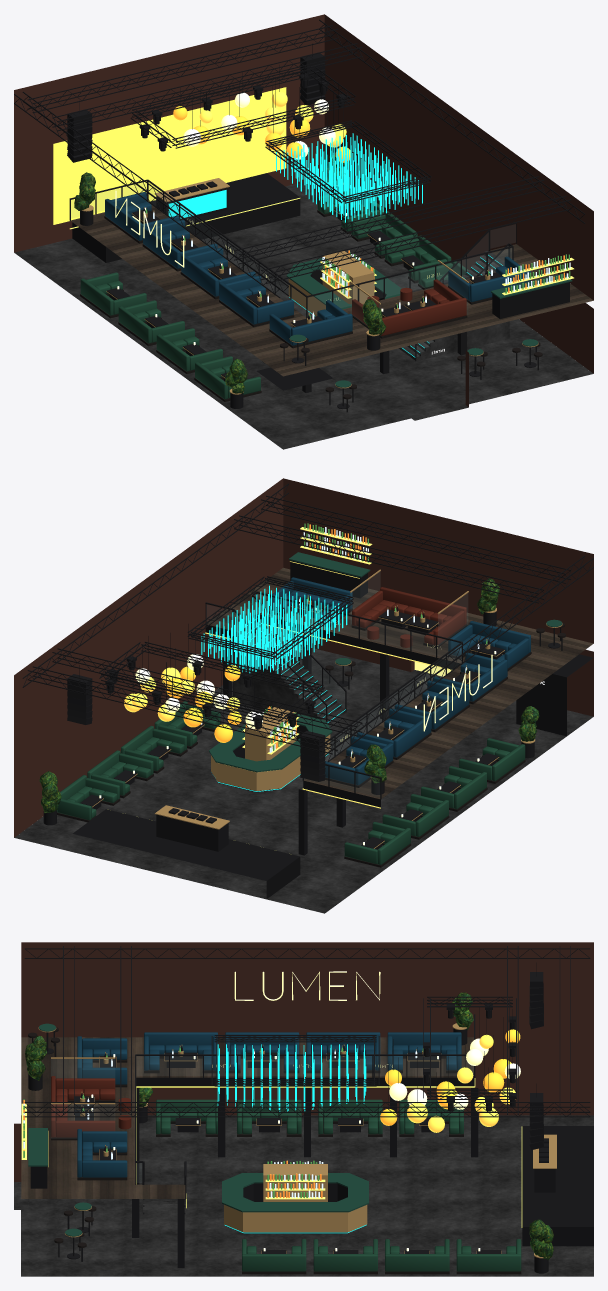
The model's file is lumen-club.glb.
The picture shows the model from 3 angles, top to bottom: view 1: azimuth 30°, elevation 25°; view 2: azimuth 150°, elevation 25°; view 3: azimuth 270°, elevation 25°; orthographic projection. The views are drawn at different scales.
Parts seen in each view (by area): view 1: ground_floor, wall_east, rig, wall_north, lvl1_furniture, fx_screen, furniture, lvl1_slabs, stage, fx_ledrain, bar, fx_spheres (+8 smaller); view 2: ground_floor, wall_east, wall_south, rig, lvl1_furniture, furniture, lvl1_slabs, stage, fx_ledrain, bar, stairs, fx_spheres (+7 smaller); view 3: wall_west, ground_floor, lvl1_furniture, furniture, rig, lvl1_slabs, bar, stage, fx_spheres, columns, fx_ledrain, lvl1_railing (+6 smaller).
Boxes of the visible parts, x1,y1,x2,y2 form: ground_floor: (14,177,593,449); wall_east: (324,14,593,373); rig: (14,19,585,361); wall_north: (14,14,324,252); lvl1_furniture: (74,172,572,365); fx_screen: (53,87,286,224); furniture: (80,154,542,412); lvl1_slabs: (70,201,593,376); stage: (72,173,300,262); fx_ledrain: (276,133,422,222); bar: (286,251,401,315); fx_spheres: (173,91,350,162); ground_floor: (14,641,593,913); wall_east: (14,478,283,837); wall_south: (283,478,593,716); rig: (22,483,593,781); lvl1_furniture: (269,552,565,794); furniture: (39,643,539,867); lvl1_slabs: (205,567,593,807); stage: (72,805,300,898); fx_ledrain: (201,585,347,673); bar: (209,707,332,792); stairs: (233,616,345,724); fx_spheres: (124,654,262,742); wall_west: (21,942,593,1115); ground_floor: (14,1115,593,1276); lvl1_furniture: (25,992,473,1188); furniture: (54,1087,553,1274); rig: (24,946,590,1214); lvl1_slabs: (21,1037,474,1198); bar: (222,1164,368,1233); stage: (522,1126,593,1246); fx_spheres: (380,1029,520,1132); columns: (132,1088,478,1267); fx_ledrain: (217,1044,366,1111); lvl1_railing: (135,1014,475,1198).
Bounding box in the file's own units: 16.19 × 8 × 24.3.
Materials: 30 (3 with a texture image).
